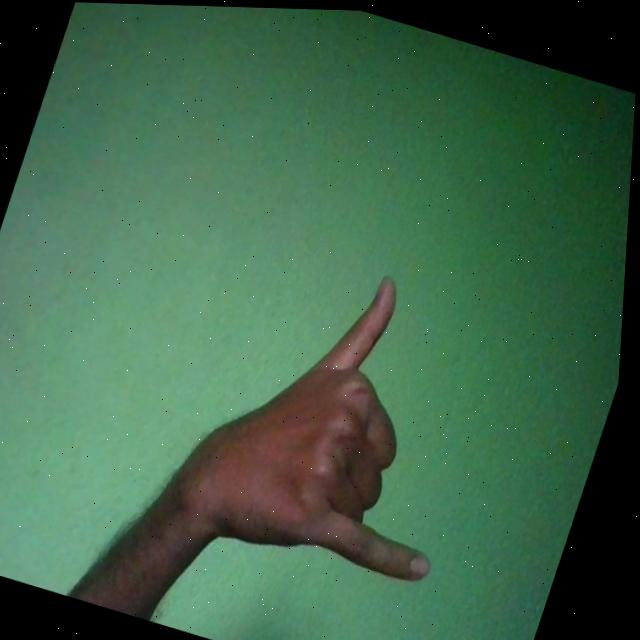Call Me: (161, 226, 523, 599)
